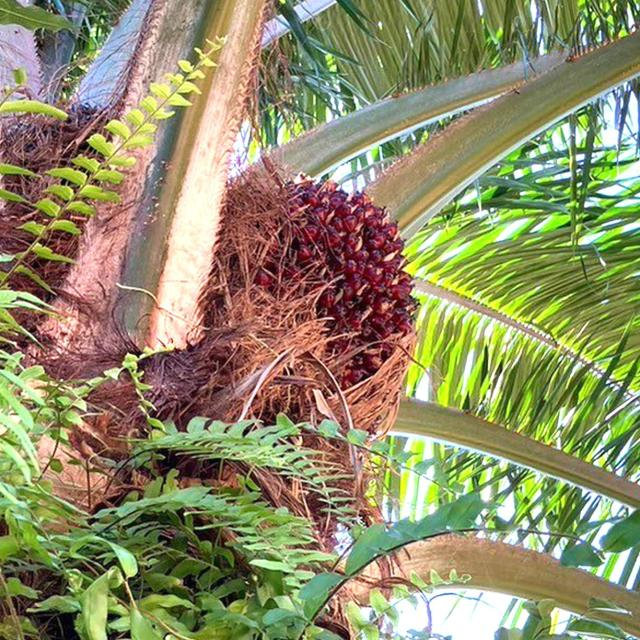ripe: (207, 174, 419, 445)
